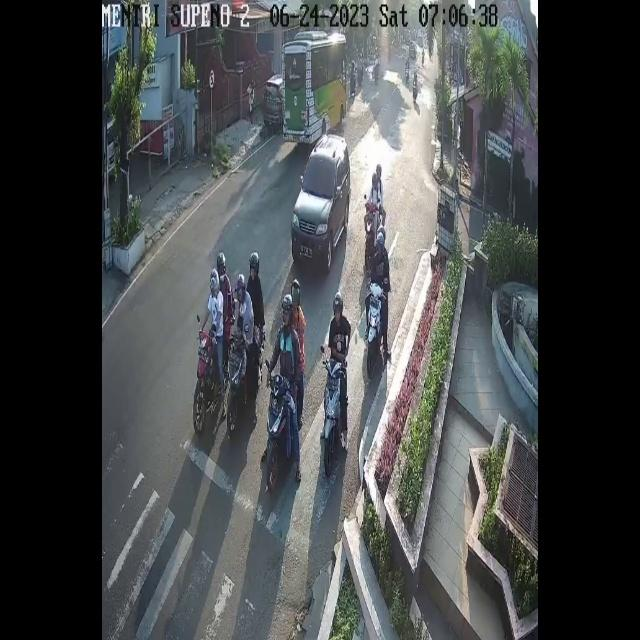bus: (264, 374, 291, 496), (322, 356, 344, 476), (192, 328, 214, 437), (225, 329, 248, 433), (366, 280, 382, 373), (366, 199, 378, 246), (413, 81, 417, 103)
car: (282, 31, 347, 142)
motorcycle: (291, 135, 349, 267), (262, 74, 282, 131)
